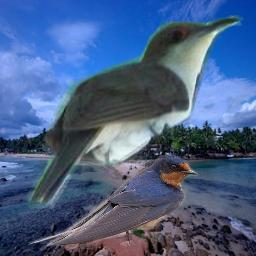Cuckoo: (27, 15, 244, 210)
Swallow: (29, 153, 198, 249)
